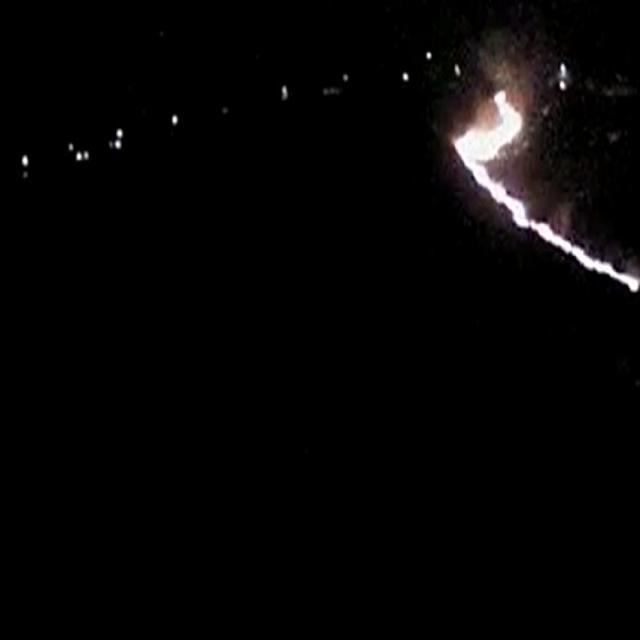Fire: (444, 78, 638, 296)
